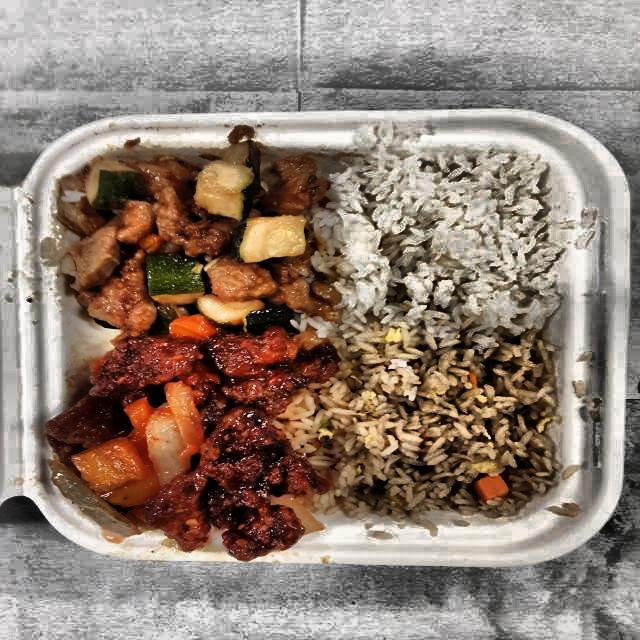Food: (38, 328, 338, 559), (46, 140, 322, 332), (328, 146, 566, 334), (310, 338, 557, 518)
